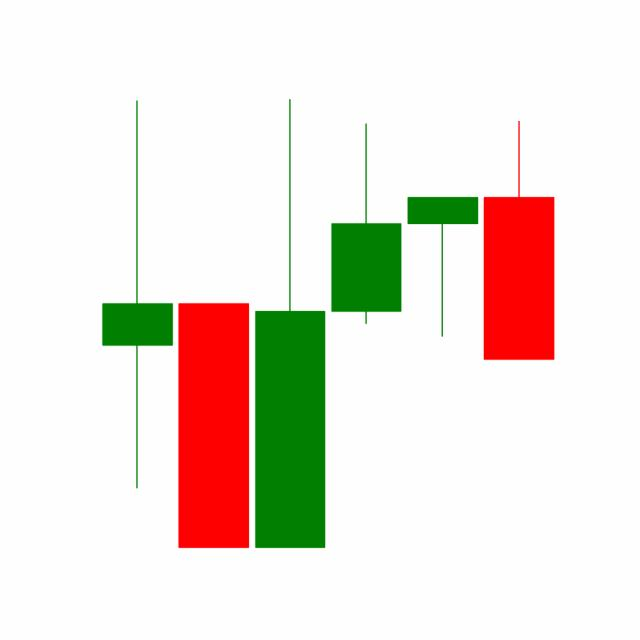Dragonfly Doji: (403, 194, 481, 338)
